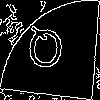Q: (25, 25, 66, 78)
